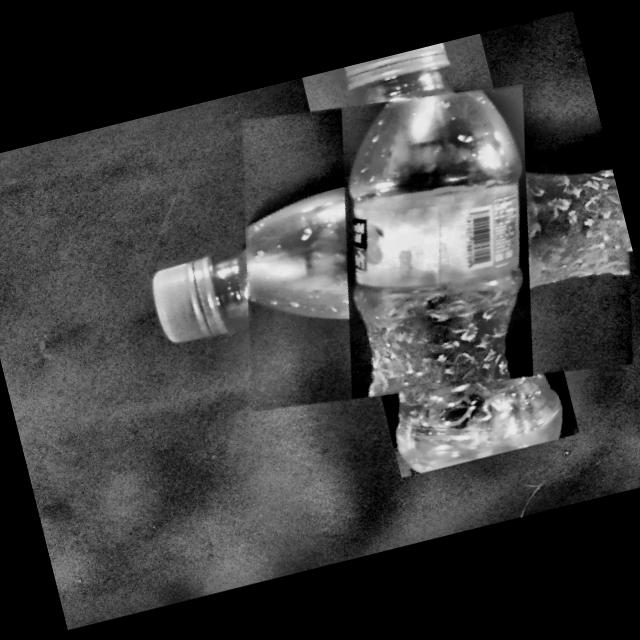Plastic-Bottle: (199, 46, 640, 442)
